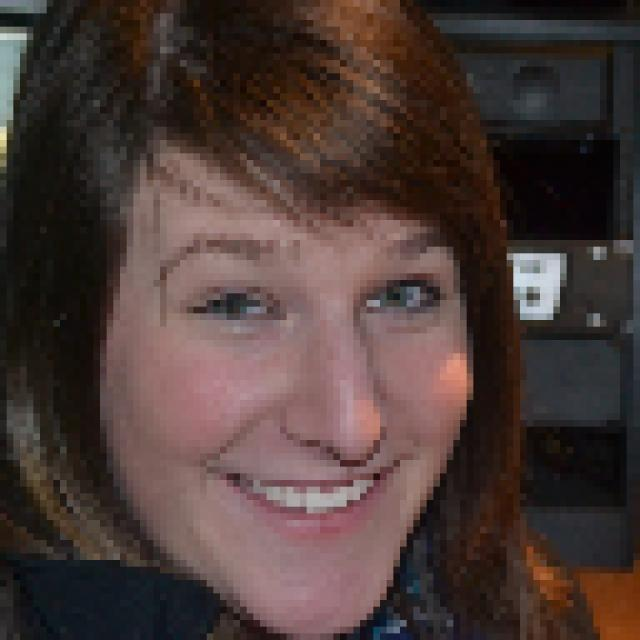happy: (80, 138, 488, 640)
